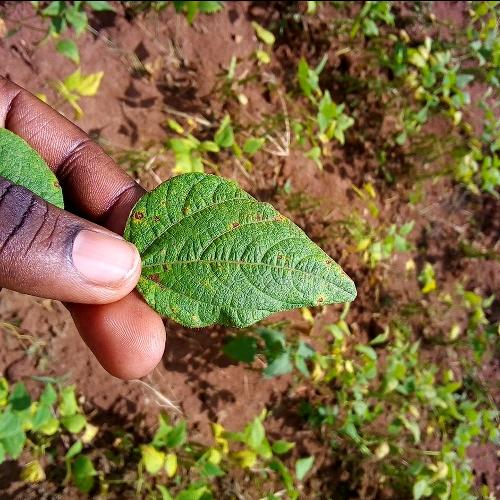hawar: (144, 250, 175, 297), (134, 203, 167, 228), (226, 218, 243, 234), (248, 208, 262, 221)
mozaik: (126, 184, 356, 350)
